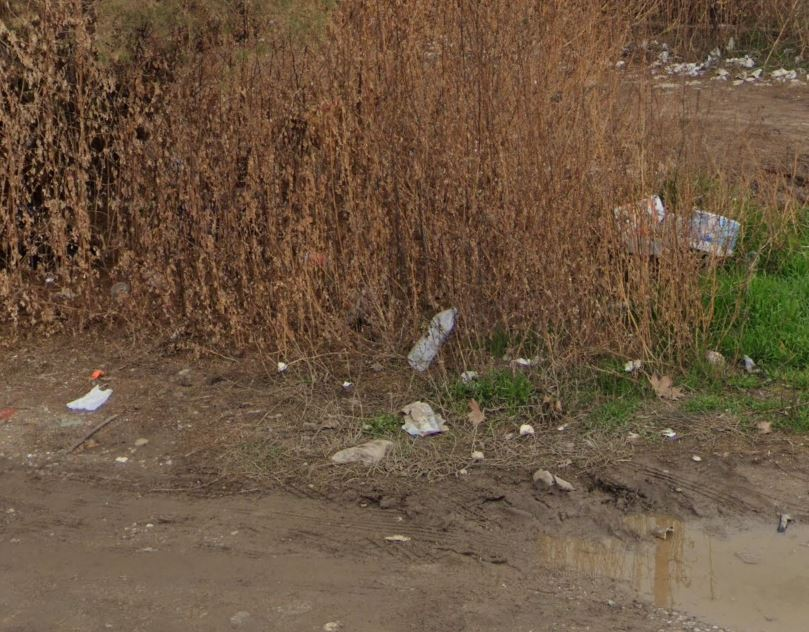trash: (585, 39, 809, 101), (603, 189, 758, 267), (406, 299, 460, 378), (60, 360, 120, 418), (393, 395, 452, 441)
